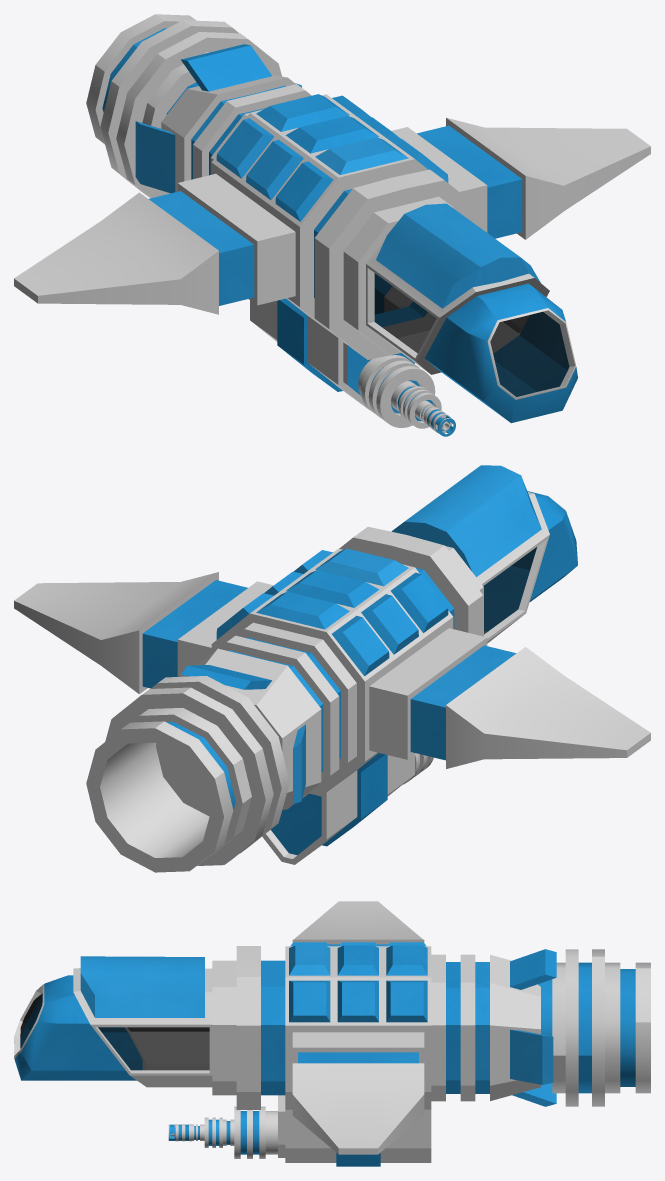
Rendered from BAA.fbx.
3 views of the same model, one above another, from view 1: azimuth 30°, elevation 25°; view 2: azimuth 150°, elevation 25°; view 3: azimuth 270°, elevation 25° (orthographic). The views are drawn at different scales.
Visible parts, largest first — view 1: BAA; view 2: BAA; view 3: BAA.
Part boxes in pixels (x1,y1,x2,y2): BAA: [14, 14, 650, 436]; BAA: [14, 465, 650, 872]; BAA: [14, 901, 650, 1166].
Bounding box in the file's own units: 8 × 3.15 × 8.73.
